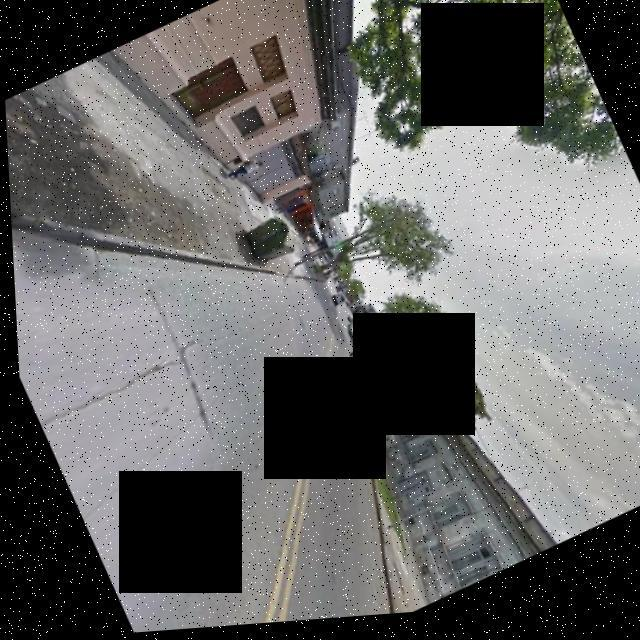bin: (224, 207, 305, 283)
